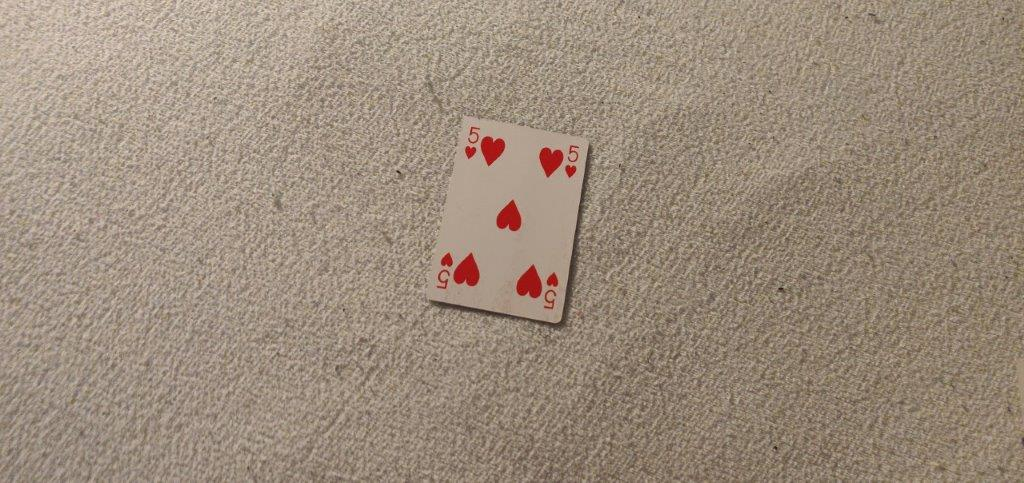5H: (562, 143, 588, 182), (461, 125, 481, 162)
